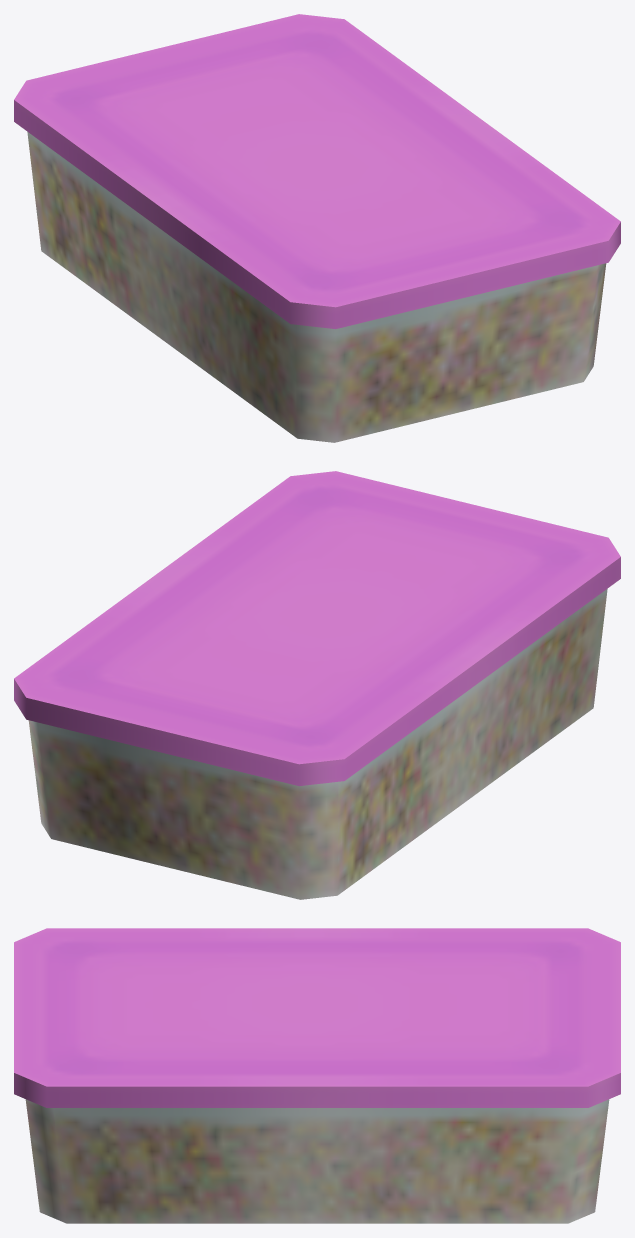
File: jsf_Ingredient_RaibowSprinkles_01.fbx
3 renders of one model, top to bottom at view 1: azimuth 30°, elevation 25°; view 2: azimuth 150°, elevation 25°; view 3: azimuth 270°, elevation 25°, orthographic. The views are drawn at different scales.
Parts seen in each view (by area): view 1: Lid, Body; view 2: Lid, Body; view 3: Lid, Body.
Boxes of the visible parts, <box> form: Lid: <box>14,14,620,329</box>; Body: <box>27,132,606,442</box>; Lid: <box>14,471,620,786</box>; Body: <box>28,589,607,899</box>; Lid: <box>14,928,620,1107</box>; Body: <box>25,1099,609,1223</box>.
Size of the model in its own units: 16.6 by 7.11 by 26.93.
